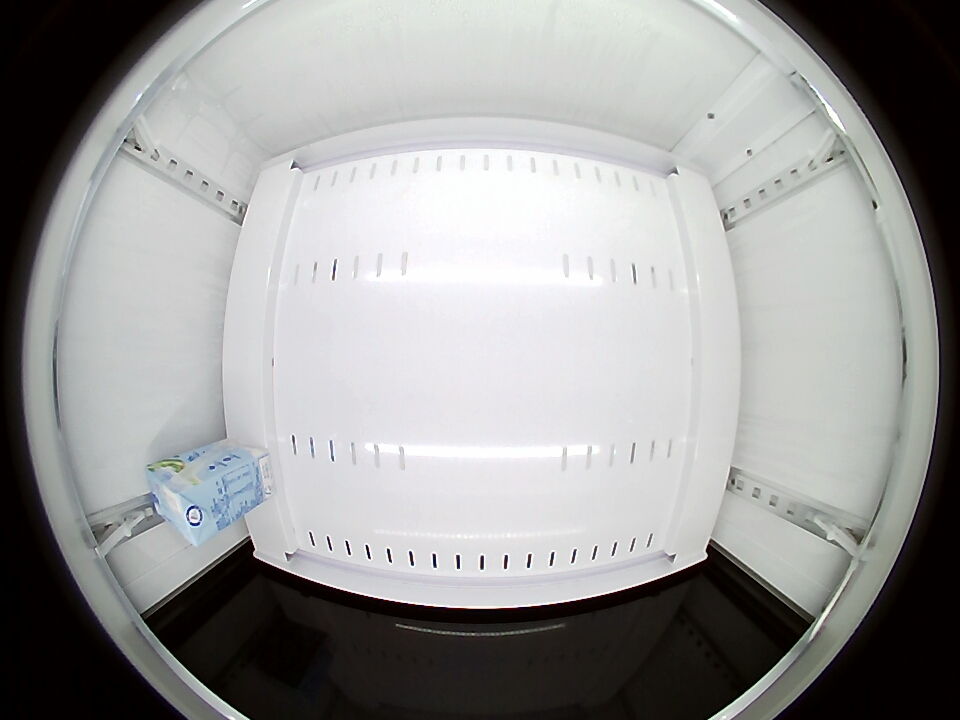weitanaiditang: (145, 458, 227, 545)
